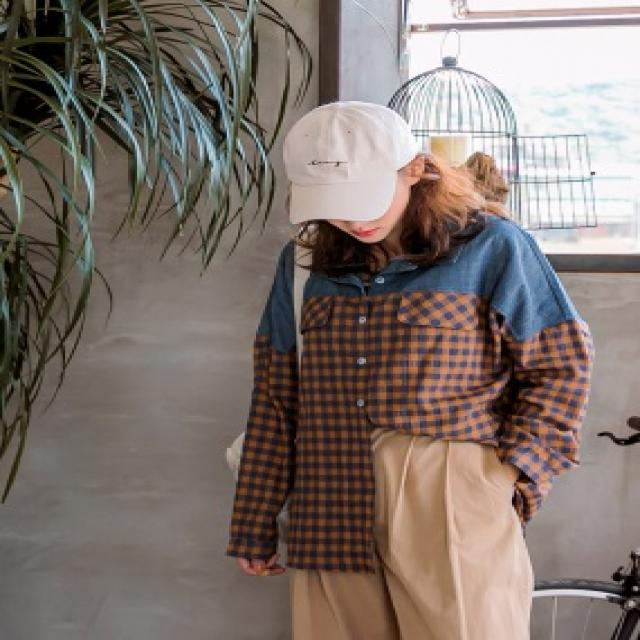plaid: (198, 222, 595, 562)
